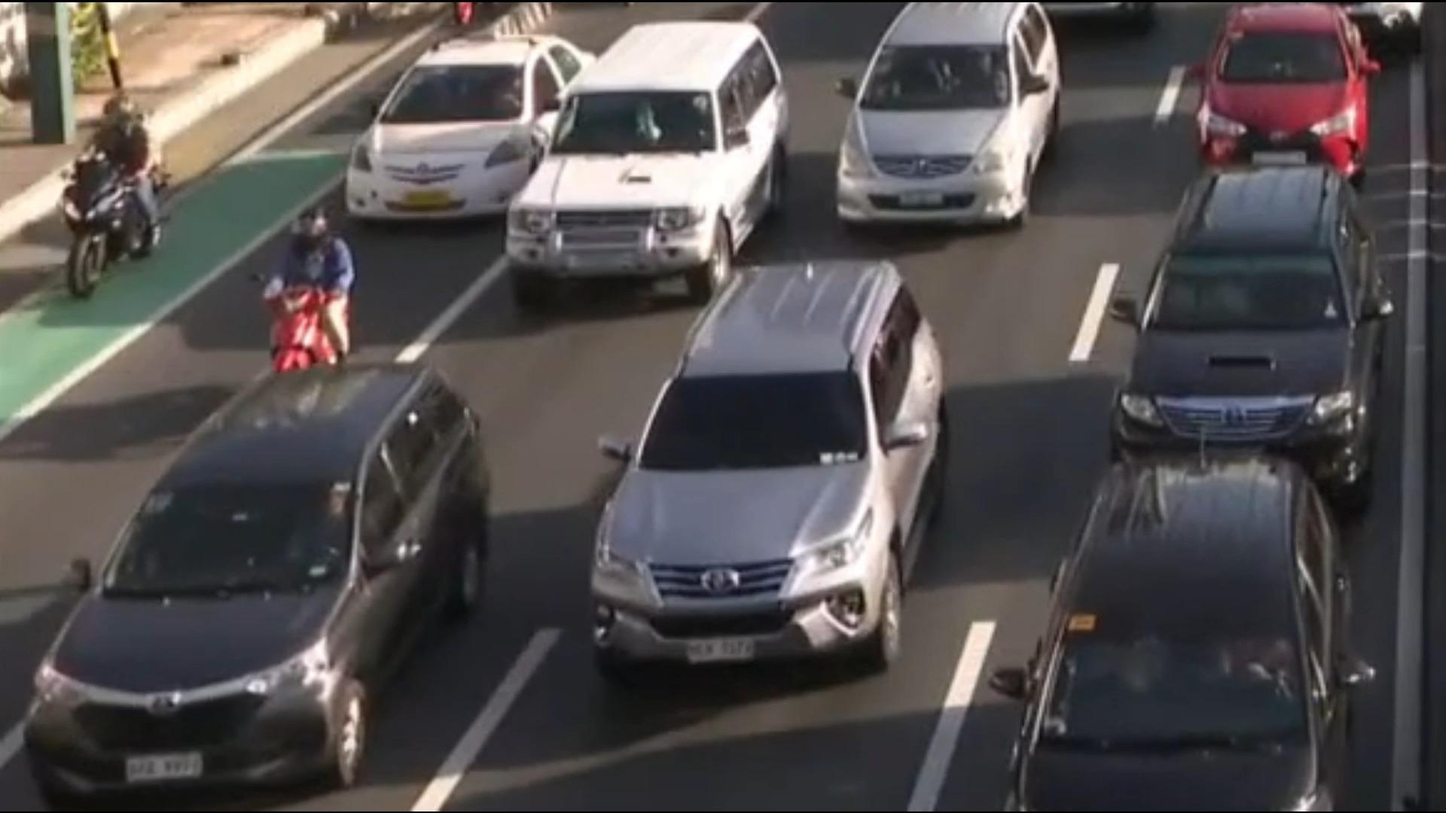Motorcycle: (10, 89, 189, 334), (245, 196, 381, 391)
SUV: (0, 328, 533, 813), (551, 194, 995, 709), (1002, 407, 1388, 813), (1087, 147, 1429, 481), (483, 15, 797, 323), (801, 0, 1075, 265), (1185, 0, 1399, 195)
Sedan: (330, 0, 624, 236)
